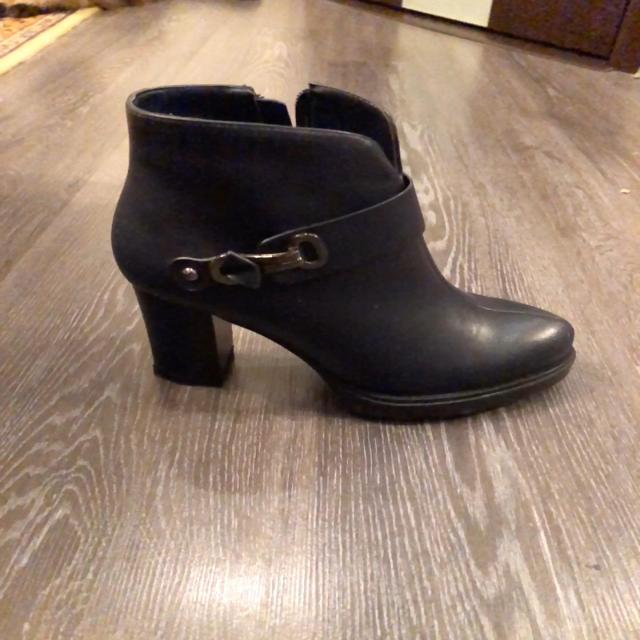shoe: (118, 85, 577, 424)
